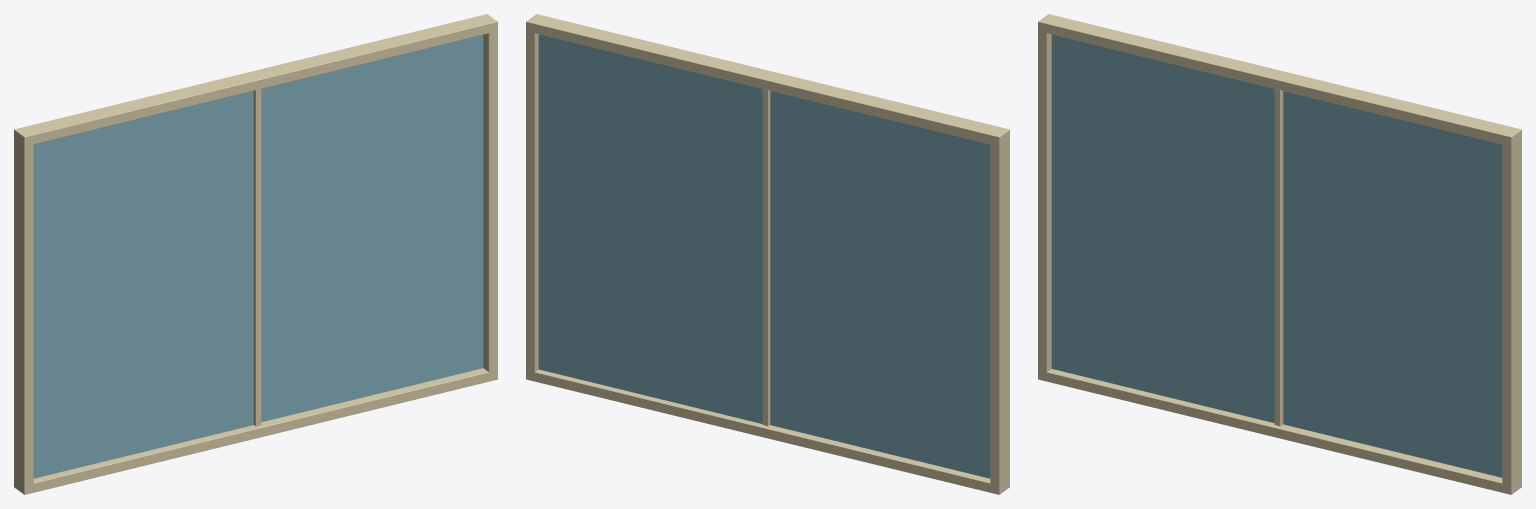
The model's file is b21_window_shopfront_3_6m.glb.
The picture shows the model from 3 angles, left to right: view 1: azimuth 30°, elevation 25°; view 2: azimuth 150°, elevation 25°; view 3: azimuth 330°, elevation 25°; orthographic projection.
Visible parts, largest first — view 1: b21_window_shopfront_3_6m; view 2: b21_window_shopfront_3_6m; view 3: b21_window_shopfront_3_6m.
Part boxes in pixels (x1,y1,x2,y2): b21_window_shopfront_3_6m: (14,14,497,494); b21_window_shopfront_3_6m: (526,14,1009,494); b21_window_shopfront_3_6m: (1038,14,1521,494).
Bounding box in the file's own units: 3.6 × 2.6 × 0.14.
